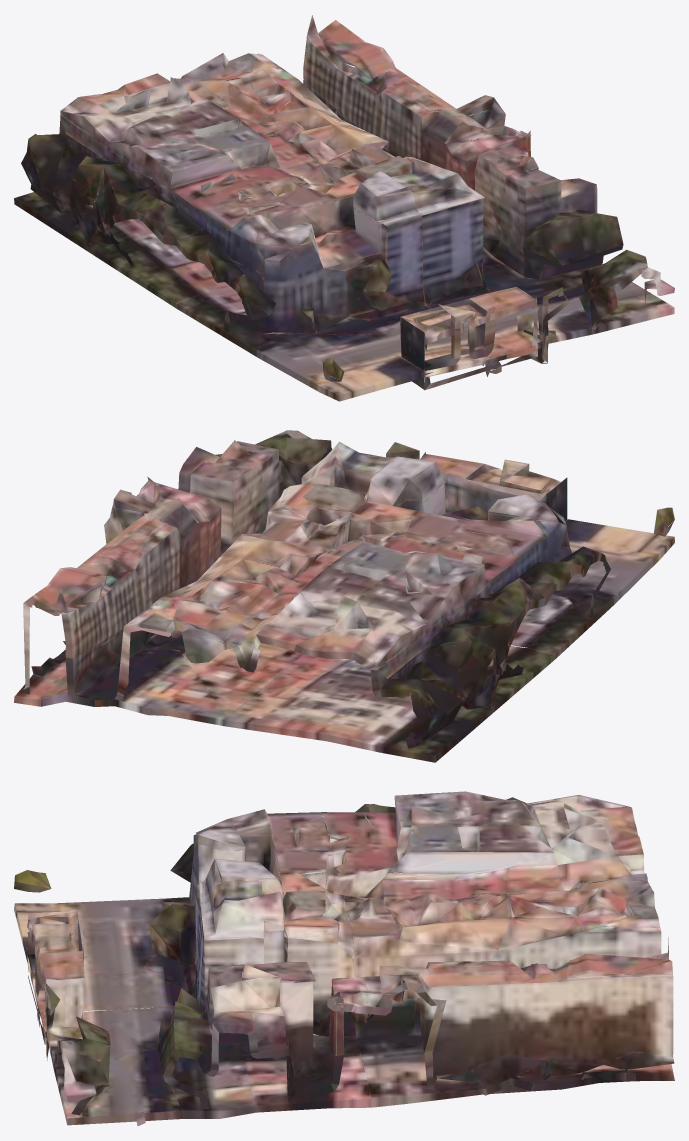
The picture shows the model from 3 angles, top to bottom: view 1: azimuth 30°, elevation 25°; view 2: azimuth 150°, elevation 25°; view 3: azimuth 270°, elevation 25°; orthographic projection. The views are drawn at different scales.
Visible parts, largest first — view 1: Mesh_0; view 2: Mesh_0; view 3: Mesh_0.
Boxes of the visible parts, x1=… form: Mesh_0: x1=14, y1=15, x2=674, y2=401; Mesh_0: x1=14, y1=430, x2=674, y2=762; Mesh_0: x1=14, y1=791, x2=674, y2=1125.
Bounding box in the file's own units: 133 × 44.96 × 165.
1 material, 1 textured.
